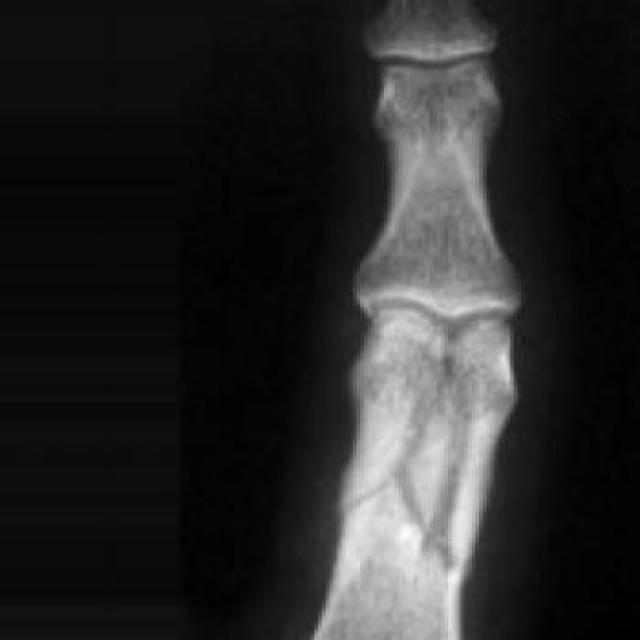Fracture: (270, 439, 556, 575)
